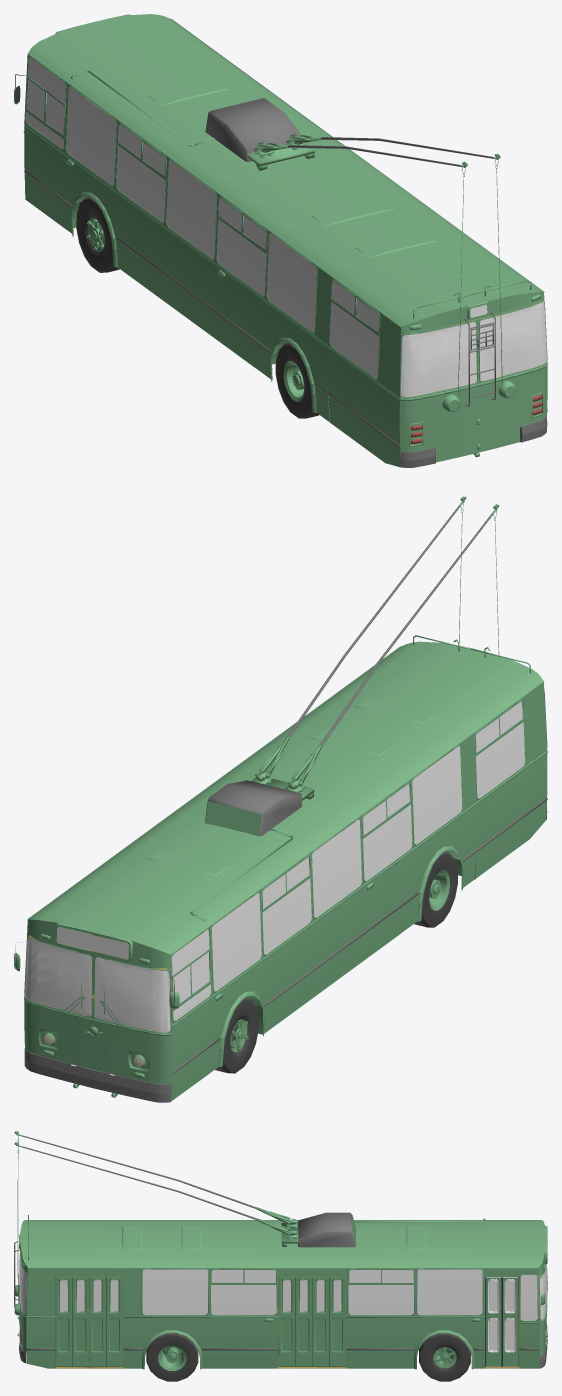
File: Bus_closed_Door.fbx
3 renders of one model, top to bottom at view 1: azimuth 30°, elevation 25°; view 2: azimuth 150°, elevation 25°; view 3: azimuth 270°, elevation 25°, orthographic. The views are drawn at different scales.
Visible parts, largest first — view 1: Body, Horns, FLwheel, BLwheel; view 2: Body, Horns, BLwheel, FLwheel; view 3: Body, BRwheel, FRwheel, Horns.
Part boxes in pixels (x1=…): Body: x1=14, y1=14, x2=547, y2=467; Horns: x1=256, y1=134, x2=502, y2=397; FLwheel: x1=76, y1=197, x2=119, y2=272; BLwheel: x1=275, y1=342, x2=318, y2=418; Body: x1=14, y1=635, x2=547, y2=1102; Horns: x1=255, y1=496, x2=499, y2=789; BLwheel: x1=414, y1=851, x2=457, y2=927; FLwheel: x1=215, y1=997, x2=258, y2=1073; Body: x1=14, y1=1212, x2=547, y2=1369; BRwheel: x1=146, y1=1333, x2=198, y2=1381; FRwheel: x1=419, y1=1333, x2=470, y2=1381; Horns: x1=14, y1=1131, x2=296, y2=1303.
Bounding box in the file's own units: 112 × 210 × 459.
